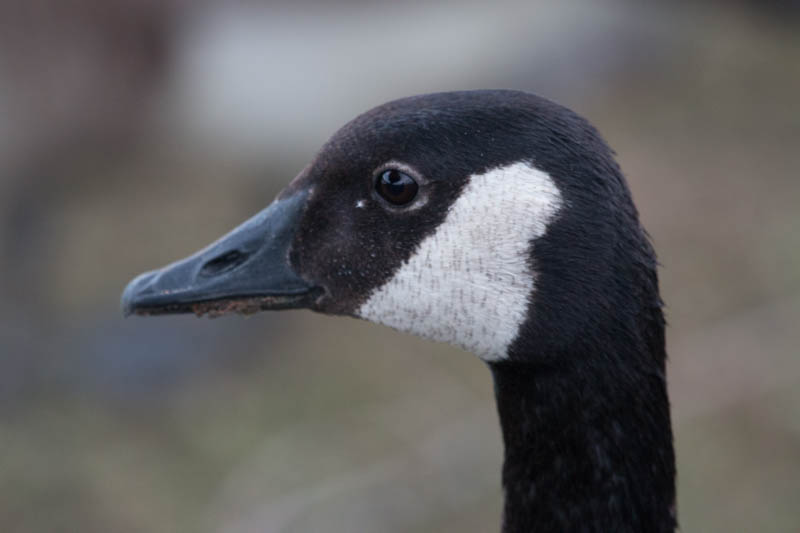goose-head: (121, 88, 659, 362)
